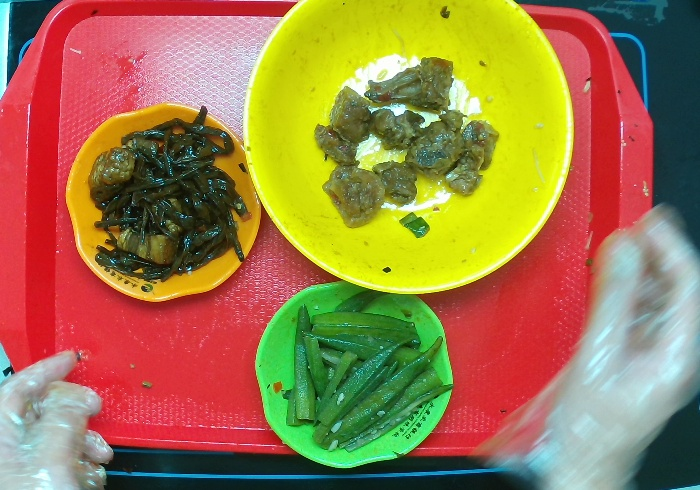YKMZ-Huang_Se_Tang_Wan: (239, 1, 578, 302)
YKMZ-Ju_Se_Ao_Bian_Wan: (57, 100, 265, 309)
YKMZ-Lv_Se_Ao_Bian_Wan: (253, 275, 459, 472)
